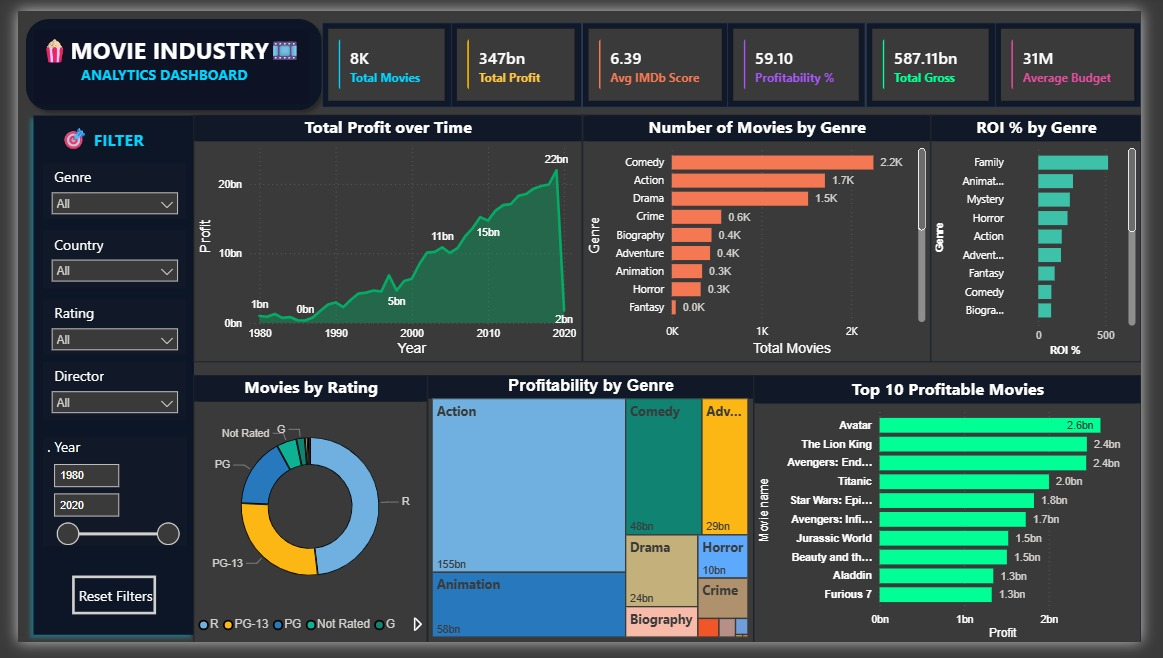

Layout of this report page (visuals, bound fields, positions):
{"tool":"powerbi","page":{"name":"Overall Dashboard","canvas":[1280,720],"ordinal":0},"visuals":[{"type":"shape","box":[0,0,355,122],"z":0},{"type":"textbox","box":[19,22,314,84],"z":1000},{"type":"cardVisual","fields":{"Data":["movies.Total Movies"]},"box":[346.2,13.8,147.5,96.2],"z":2000},{"type":"cardVisual","fields":{"Data":["movies.Avg IMDb Score"]},"box":[642.5,13.8,166.2,96.2],"z":3000},{"type":"cardVisual","fields":{"Data":["movies.Total Profit"]},"box":[493.8,13.8,148.8,96.2],"z":4000},{"type":"cardVisual","fields":{"Data":["movies.Profitability %"]},"box":[808.8,13.8,157.5,96.2],"z":5000},{"type":"cardVisual","fields":{"Data":["movies.Total Gross"]},"box":[966.2,13.8,147.5,96.2],"z":6000},{"type":"cardVisual","fields":{"Data":["movies.Average Budget"]},"box":[1113.8,13.8,166.2,96.2],"z":7000},{"type":"shape","box":[8.8,110,201.2,610],"z":8000},{"type":"textbox","box":[42.5,122.5,133.8,51.2],"z":9000},{"type":"slicer","fields":{"Values":["movies.director"]},"box":[27.5,400,163.8,66.2],"z":10000},{"type":"slicer","fields":{"Values":["movies.genre"]},"box":[28.8,173.8,163.8,63.8],"z":11000},{"type":"slicer","fields":{"Values":["movies.country"]},"box":[28.8,250,163.8,66.2],"z":12000},{"type":"slicer","fields":{"Values":["movies.rating"]},"box":[27.5,327.5,163.8,63.8],"z":13000},{"type":"slicer","title":".  Year","fields":{"Values":["movies.year"]},"box":[27.5,485,163.8,125],"z":14000},{"type":"actionButton","box":[61.4,642.9,95.7,44.3],"z":15000},{"type":"donutChart","title":"Movies by Rating","fields":{"Category":["movies.rating"],"Y":["CountNonNull(movies.name)"]},"box":[200,415,266.7,305],"z":16000},{"type":"clusteredBarChart","title":"Number of Movies by Genre","fields":{"Category":["movies.genre"],"Y":["CountNonNull(movies.name)"]},"box":[642.9,118.6,397.1,281.4],"z":17000},{"type":"lineChart","title":"Total Profit over Time","fields":{"Category":["movies.year"],"Y":["Sum(movies.Profitability)"]},"box":[200,118.6,442.9,281.4],"z":18000},{"type":"treemap","title":"Profitability by Genre","fields":{"Values":["Sum(movies.Profitability)"],"Group":["movies.genre"]},"box":[466.7,415,371.7,305],"z":19000},{"type":"clusteredBarChart","title":"Top 10 Profitable Movies","fields":{"Category":["movies.name"],"Y":["Sum(movies.Profitability)"]},"box":[838.3,415,441.7,305],"z":20000},{"type":"clusteredBarChart","title":"ROI % by Genre","fields":{"Category":["movies.genre"],"Y":["movies.ROI %"]},"box":[1040,118.6,240,281.4],"z":21000}]}

Visuals, with their boxes in screenshot pixels (x1, y1, x2, y2), scaled from the page's 1280x720 canvas onto the 1163x658 screenshot:
shape: 0 0 323 111
textbox: 17 20 303 97
cardVisual - movies.Total Movies: 315 13 449 101
cardVisual - movies.Avg IMDb Score: 584 13 735 101
cardVisual - movies.Total Profit: 449 13 584 101
cardVisual - movies.Profitability %: 735 13 878 101
cardVisual - movies.Total Gross: 878 13 1012 101
cardVisual - movies.Average Budget: 1012 13 1162 101
shape: 8 101 191 657
textbox: 39 112 160 159
slicer - movies.director: 25 366 174 426
slicer - movies.genre: 26 159 175 217
slicer - movies.country: 26 228 175 289
slicer - movies.rating: 25 299 174 358
".  Year" slicer: 25 443 174 557
actionButton: 56 588 143 628
"Movies by Rating" donutChart: 182 379 424 657
"Number of Movies by Genre" clusteredBarChart: 584 108 945 366
"Total Profit over Time" lineChart: 182 108 584 366
"Profitability by Genre" treemap: 424 379 762 657
"Top 10 Profitable Movies" clusteredBarChart: 762 379 1162 657
"ROI % by Genre" clusteredBarChart: 945 108 1162 366
